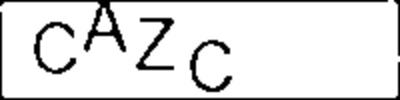A: (81, 1, 132, 55)
C: (187, 38, 236, 94), (33, 19, 78, 76)
Z: (133, 14, 181, 74)
